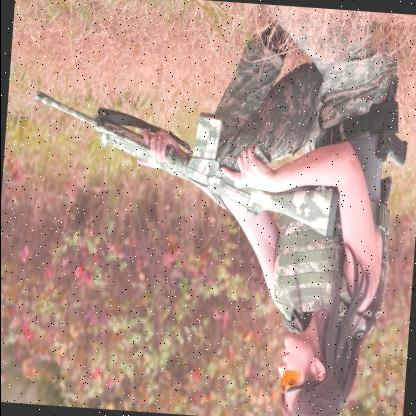rifle: (25, 70, 343, 247), (375, 78, 413, 172)
